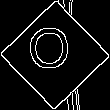O_S: (33, 29, 77, 81)
